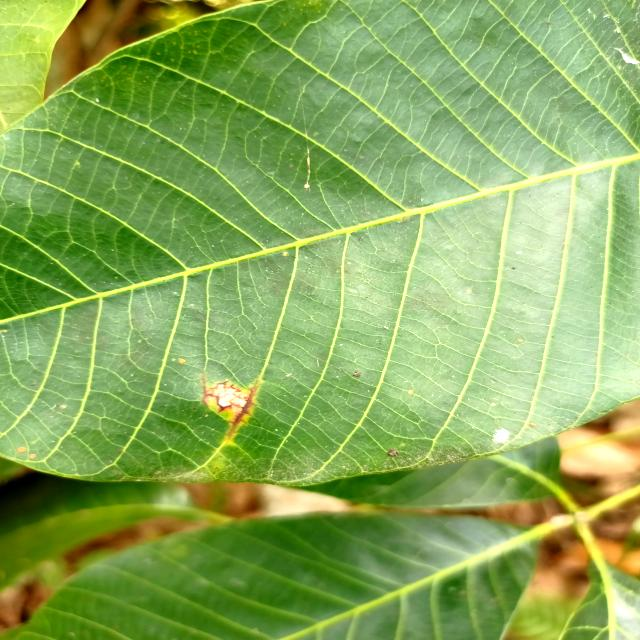Corynespora: (198, 374, 261, 438)
